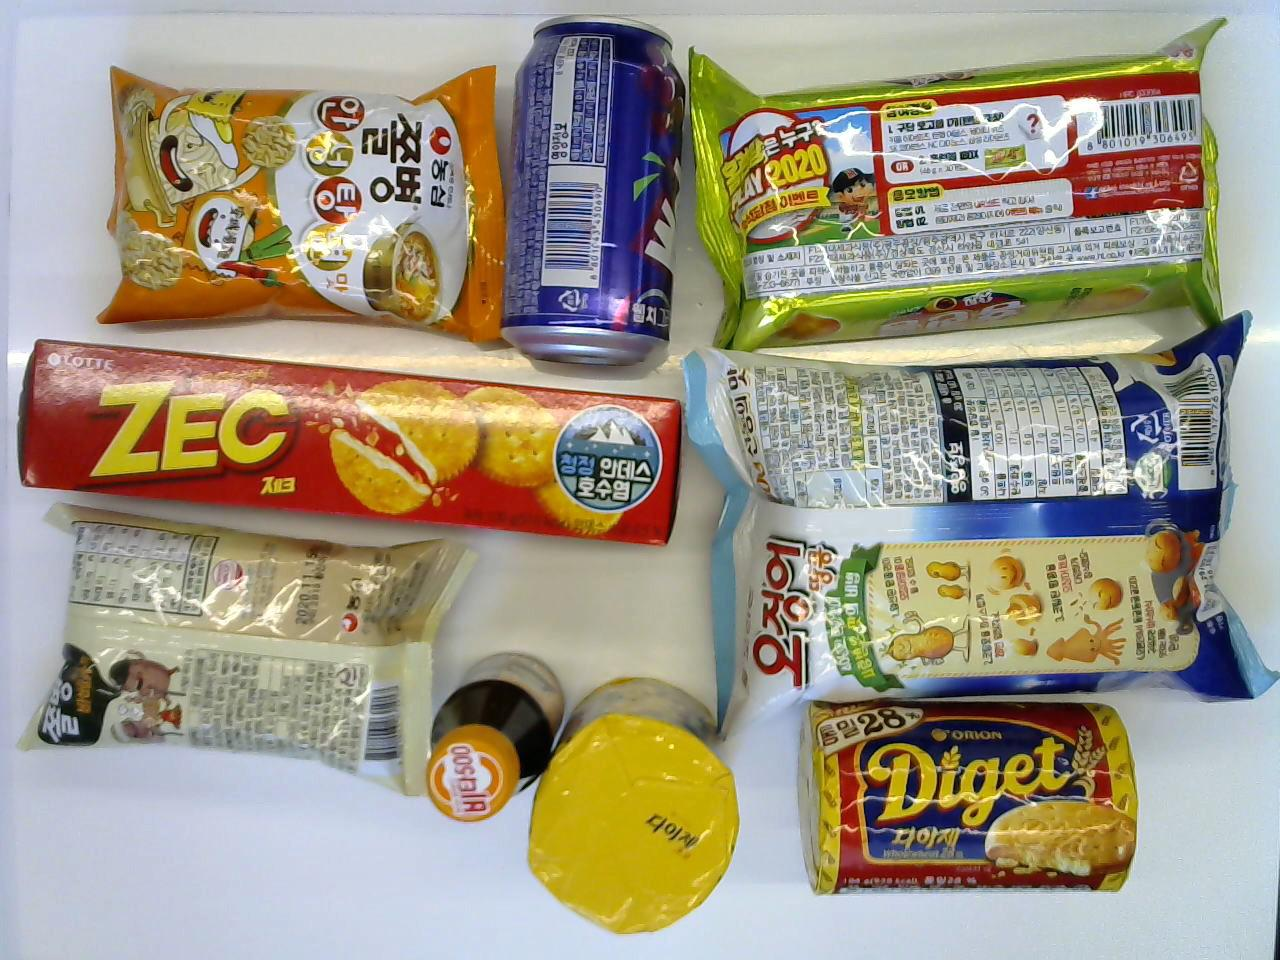diget_choco: (524, 671, 740, 939)
diget_ori: (791, 699, 1134, 895)
homerunball: (679, 8, 1245, 346)
jjolbyung_noodle: (94, 51, 506, 348)
jjolbyung_ori: (15, 493, 467, 797)
squid_peanut: (676, 313, 1271, 730)
vita500: (424, 647, 562, 831)
welchs: (500, 11, 699, 381)
zec: (8, 334, 684, 553)
